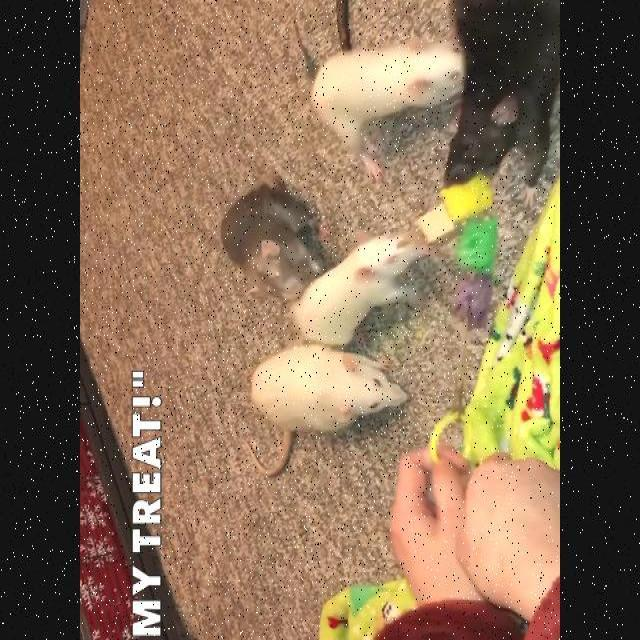rat: (241, 342, 411, 475), (444, 0, 560, 188), (309, 36, 465, 172), (293, 233, 425, 341), (220, 176, 320, 299)
